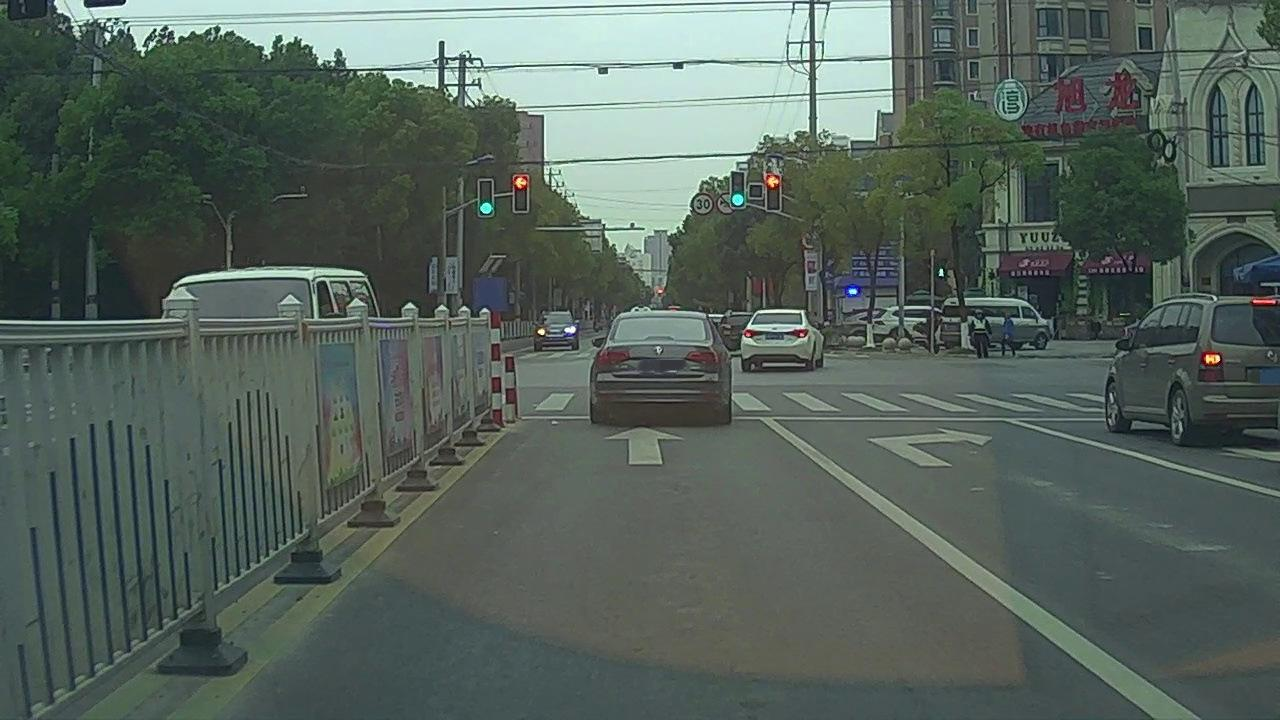traffic_light: (477, 179, 493, 217), (515, 175, 529, 210), (766, 174, 778, 208), (732, 172, 743, 208)
